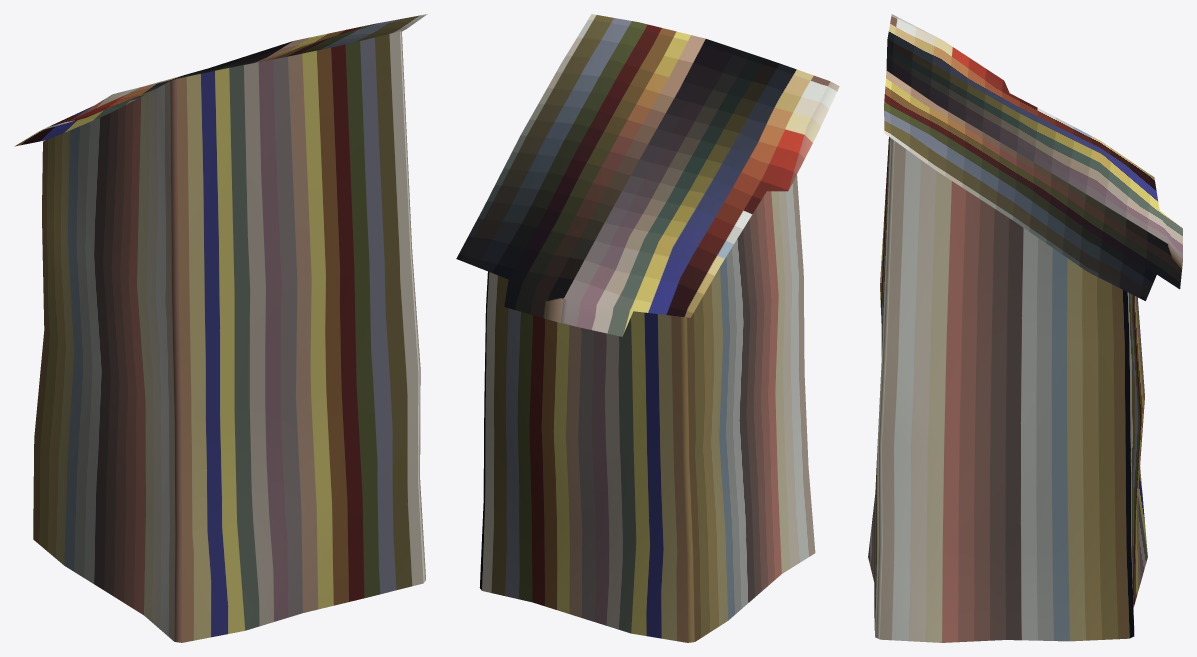
The model's file is MSH_Building_001.glb.
The picture shows the model from 3 angles, left to right: view 1: azimuth 30°, elevation 25°; view 2: azimuth 150°, elevation 25°; view 3: azimuth 270°, elevation 25°; orthographic projection. The views are drawn at different scales.
Visible parts, largest first — view 1: MSH_Building_001; view 2: MSH_Building_001; view 3: MSH_Building_001.
Part boxes in pixels (<box>): MSH_Building_001: <box>14,14,427,642</box>; MSH_Building_001: <box>456,14,839,642</box>; MSH_Building_001: <box>868,14,1182,642</box>.
Size of the model in its own units: 6.27 by 11.06 by 6.16.
Materials: 1 (1 with a texture image).
